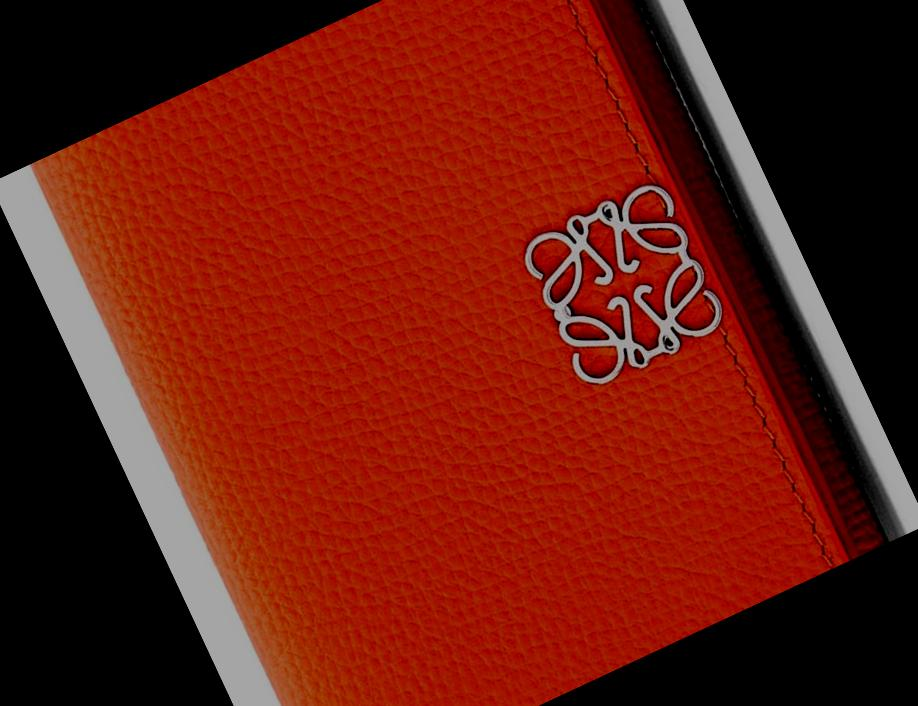LOEWE: (494, 158, 742, 410)
